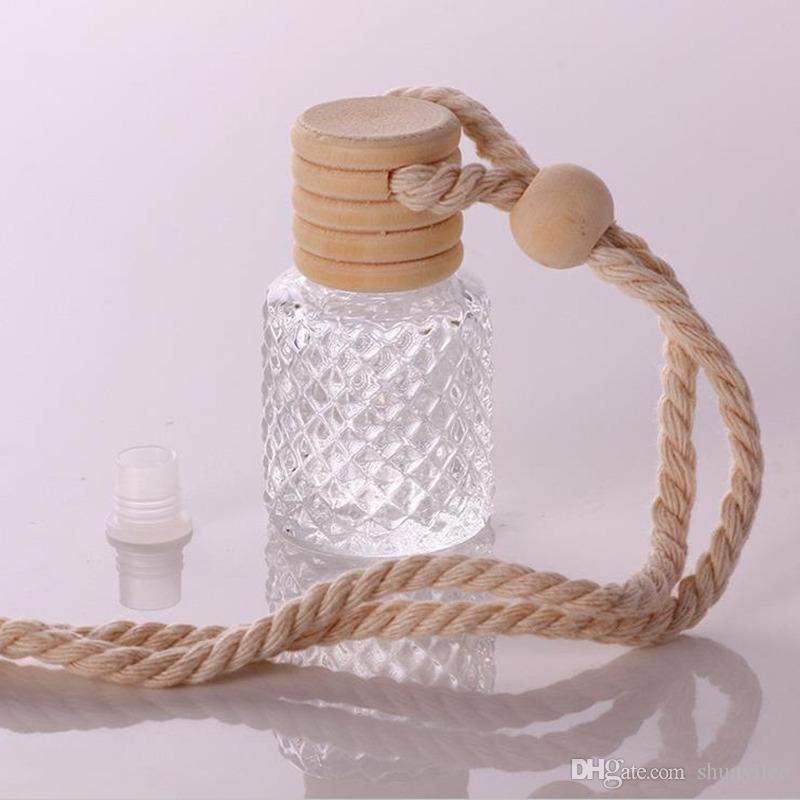emptybottle: (260, 96, 498, 556)
